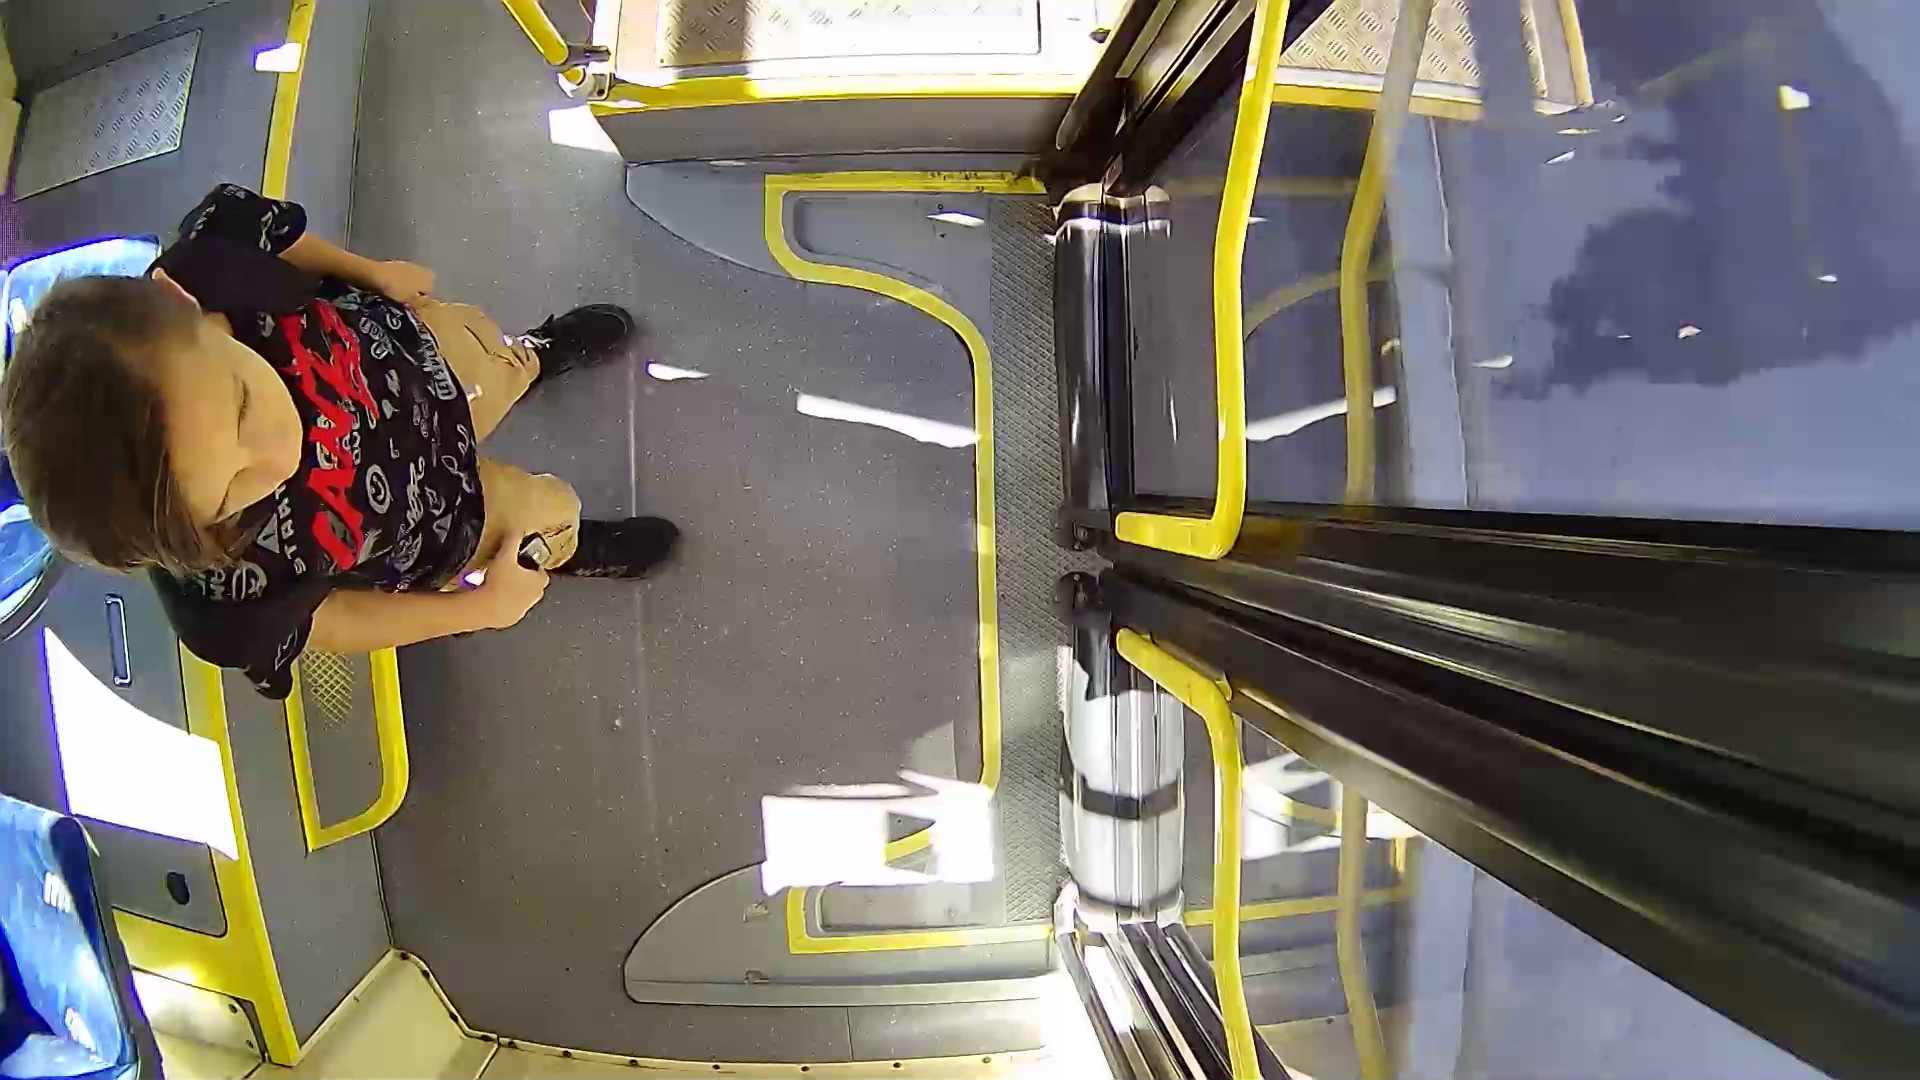person: (11, 187, 702, 672)
